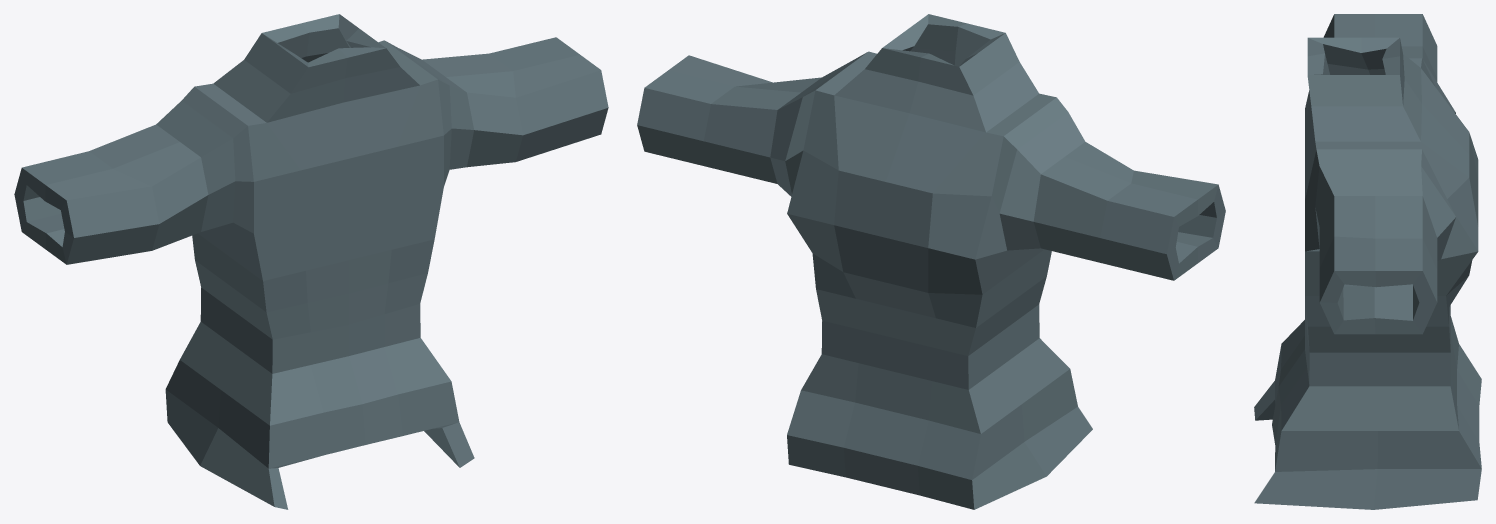
File: lowpoly_FPS_Human_Chest.fbx
3 renders of one model, left to right at view 1: azimuth 30°, elevation 25°; view 2: azimuth 150°, elevation 25°; view 3: azimuth 270°, elevation 25°, orthographic.
Parts seen in each view (by area): view 1: ChestPlate; view 2: ChestPlate; view 3: ChestPlate.
Part boxes in pixels (bbox=[...]): ChestPlate: bbox=[14, 14, 608, 509]; ChestPlate: bbox=[637, 14, 1225, 509]; ChestPlate: bbox=[1254, 14, 1481, 509].
Bounding box in the file's own units: 0.9927 × 0.371 × 0.7342.
Materials: 1 (1 with a texture image).
